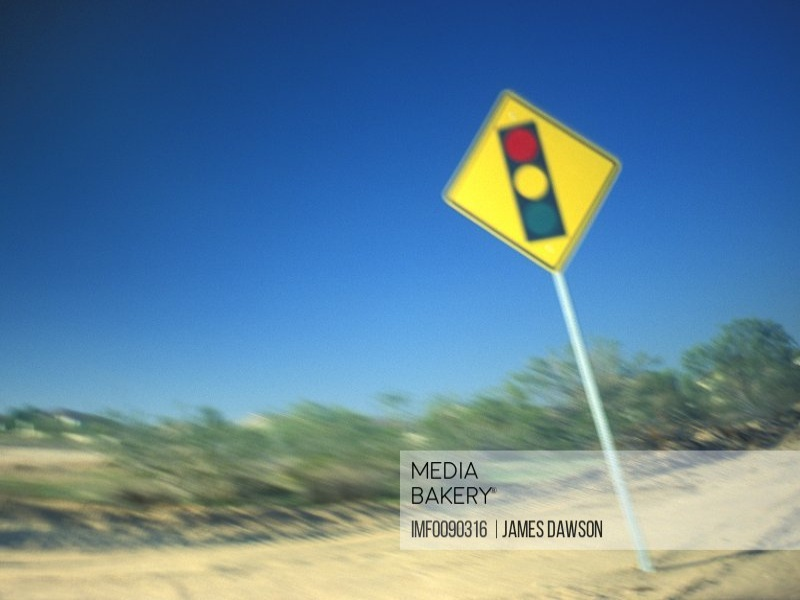traffic signal sign: (438, 87, 626, 280)
